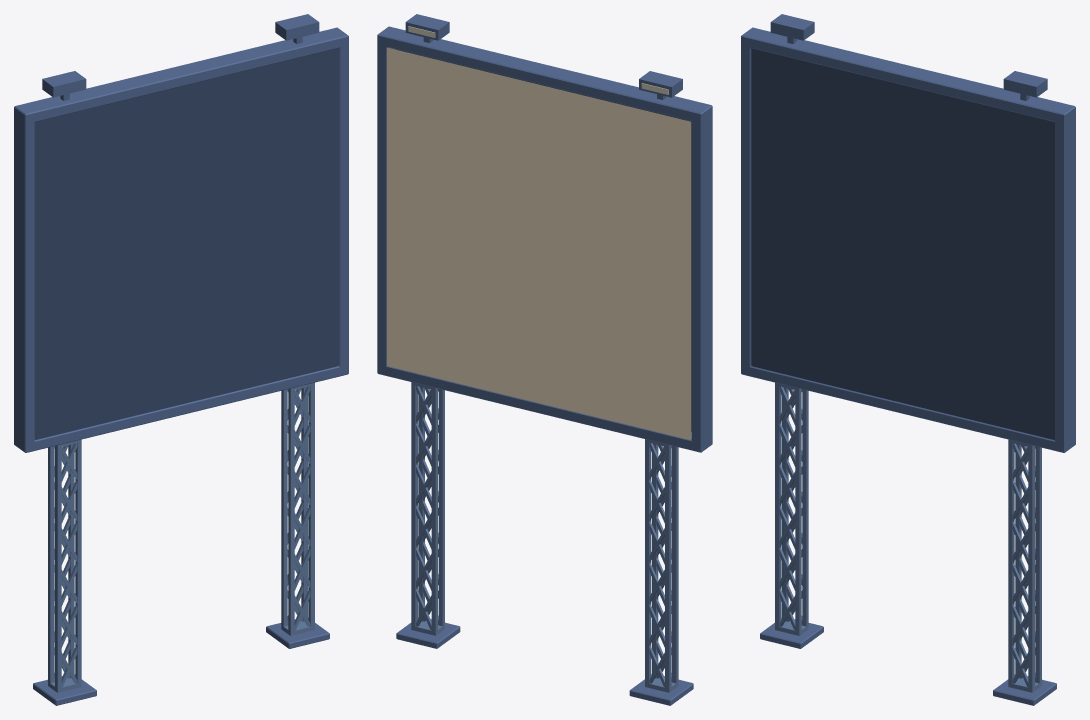
File: billboard.glb
3 views of the same model, side by side, from view 1: azimuth 30°, elevation 25°; view 2: azimuth 150°, elevation 25°; view 3: azimuth 330°, elevation 25° (orthographic).
Parts seen in each view (by area): view 1: Backing, Frame, Support Right, Support Left, Lamp Left, Lamp Right, Foot Right, Foot Left; view 2: Display, Frame, Support Left, Support Right, Lamp Left, Foot Right, Foot Left, Lamp Right, Backing; view 3: Backing, Frame, Support Left, Support Right, Lamp Left, Lamp Right, Foot Left, Foot Right.
Part boxes in pixels (x1=…): Backing: x1=35, y1=48, x2=338, y2=439; Frame: x1=14, y1=27, x2=348, y2=452; Support Right: x1=48, y1=439, x2=81, y2=692; Support Left: x1=281, y1=382, x2=314, y2=635; Lamp Left: x1=275, y1=14, x2=319, y2=43; Lamp Right: x1=42, y1=71, x2=86, y2=100; Foot Right: x1=33, y1=674, x2=96, y2=705; Foot Left: x1=266, y1=618, x2=329, y2=648; Display: x1=387, y1=47, x2=691, y2=439; Frame: x1=377, y1=26, x2=712, y2=452; Support Left: x1=411, y1=382, x2=444, y2=635; Support Right: x1=645, y1=439, x2=678, y2=692; Lamp Left: x1=405, y1=14, x2=449, y2=42; Foot Right: x1=629, y1=674, x2=693, y2=705; Foot Left: x1=396, y1=617, x2=460, y2=648; Lamp Right: x1=639, y1=71, x2=682, y2=99; Backing: x1=395, y1=49, x2=691, y2=431; Backing: x1=751, y1=48, x2=1054, y2=439; Frame: x1=741, y1=27, x2=1075, y2=452; Support Left: x1=1008, y1=439, x2=1041, y2=692; Support Right: x1=775, y1=382, x2=808, y2=635; Lamp Left: x1=1003, y1=71, x2=1047, y2=100; Lamp Right: x1=770, y1=14, x2=814, y2=43; Foot Left: x1=993, y1=674, x2=1056, y2=705; Foot Right: x1=760, y1=618, x2=823, y2=648.
Size of the model in its own units: 6.4 by 11.57 by 0.8.
